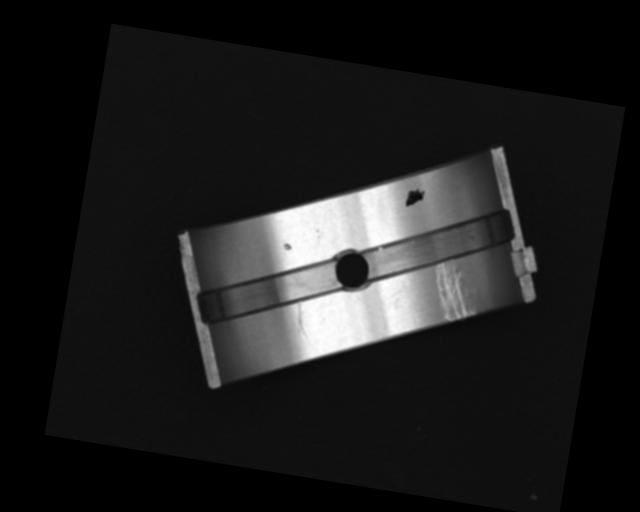blot: (403, 186, 426, 210)
bruise: (282, 242, 292, 250)
gap: (360, 188, 518, 297), (192, 244, 347, 342)
hole: (330, 248, 372, 293)
nick: (290, 301, 314, 342)
scratch: (428, 260, 482, 323)
